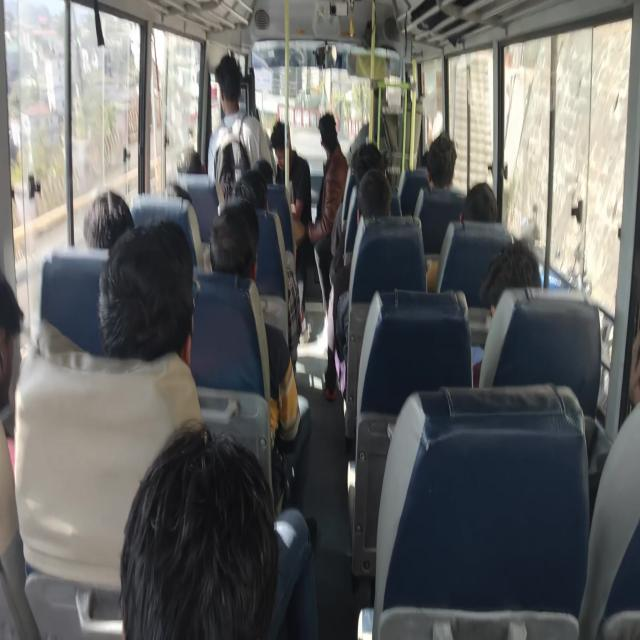person: (119, 419, 278, 639), (208, 198, 300, 446), (578, 330, 639, 638), (324, 168, 392, 400), (97, 219, 195, 365), (0, 271, 36, 638), (471, 238, 542, 387), (207, 54, 276, 190), (426, 181, 498, 291), (306, 112, 348, 246), (479, 238, 542, 318), (270, 120, 311, 242), (0, 272, 24, 435), (413, 134, 457, 218), (83, 189, 134, 249), (425, 134, 457, 190), (460, 182, 498, 222)
